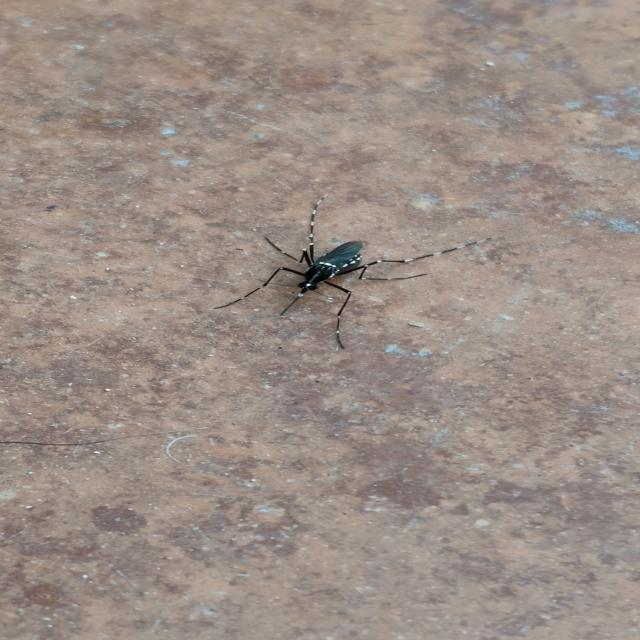albopictus: (202, 190, 498, 354)
